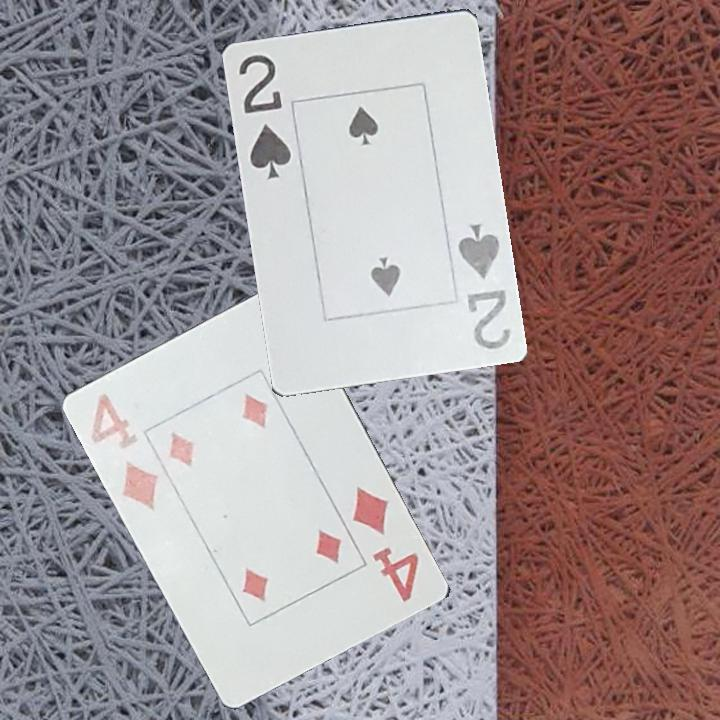2s: (234, 50, 294, 182), (453, 220, 513, 352)
4d: (88, 389, 162, 514), (349, 483, 423, 606)
